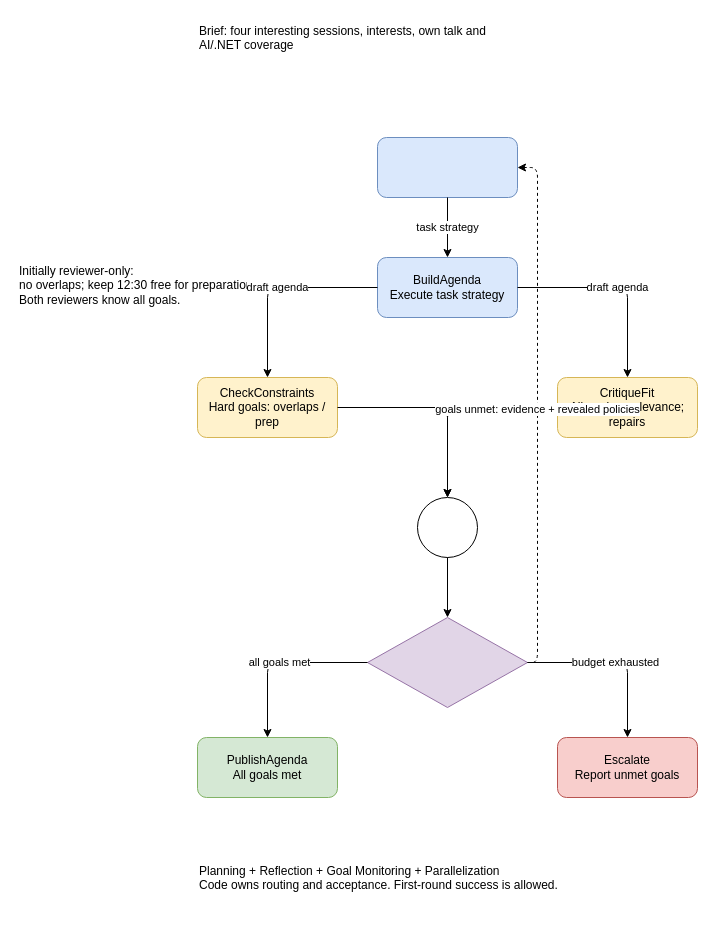
Some shapes in this 715 by 934 pixel diagram are drawn without their labels. Each missing label, with the centre of its shape:
"fan-in" belongs at (x=447, y=527).
"MonitorGoals Combine checks; route" belongs at (x=447, y=662).
"PlanTasks (Start) Interpret brief; plan the work" belongs at (x=447, y=167).
